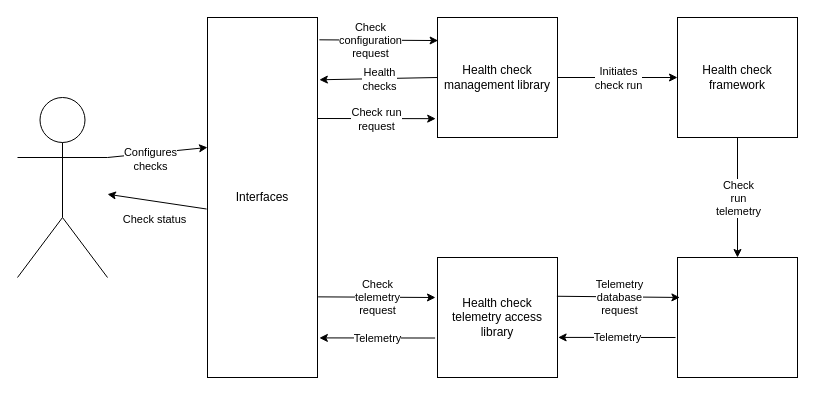
This 815x395 diagram has some shape labels left out. The shapes that lost their labels are listed below. From the top down, each one's centre as x and y in pixels, then its label:
point (62, 187): User
point (737, 317): Health check telemetry transmission and storage
